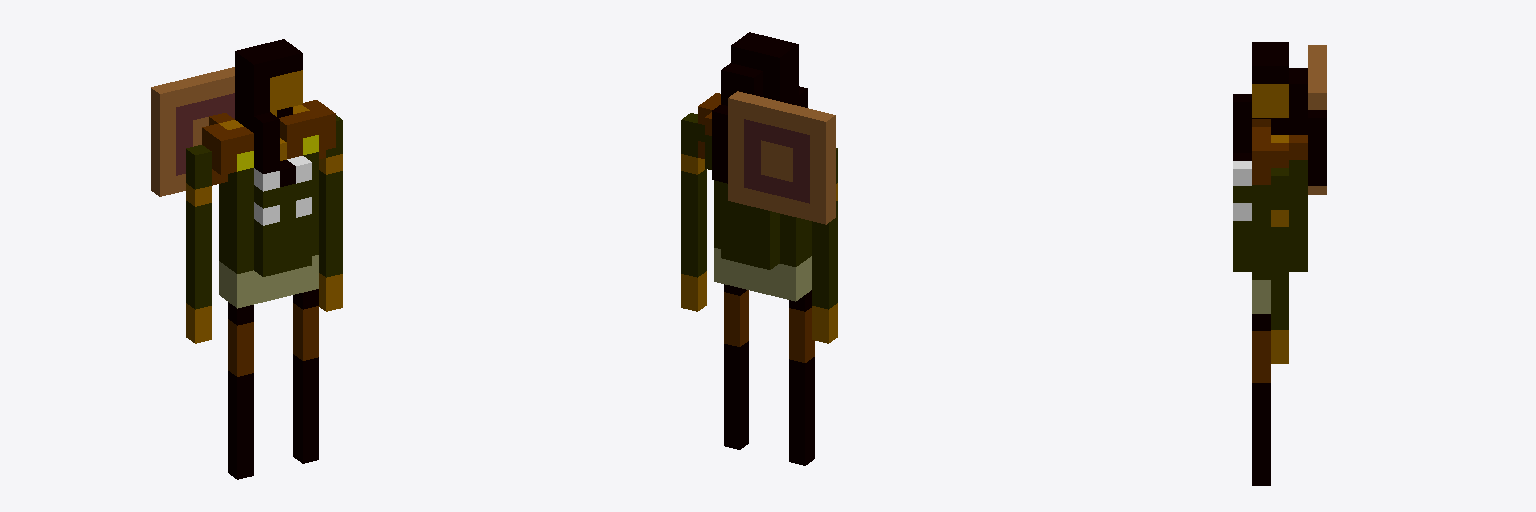
The picture shows the model from 3 angles: view 1: azimuth 30°, elevation 25°; view 2: azimuth 150°, elevation 25°; view 3: azimuth 270°, elevation 25°; orthographic projection.
Size of the model in its own units: 10 by 24 by 5.
1 materials, 1 textured.